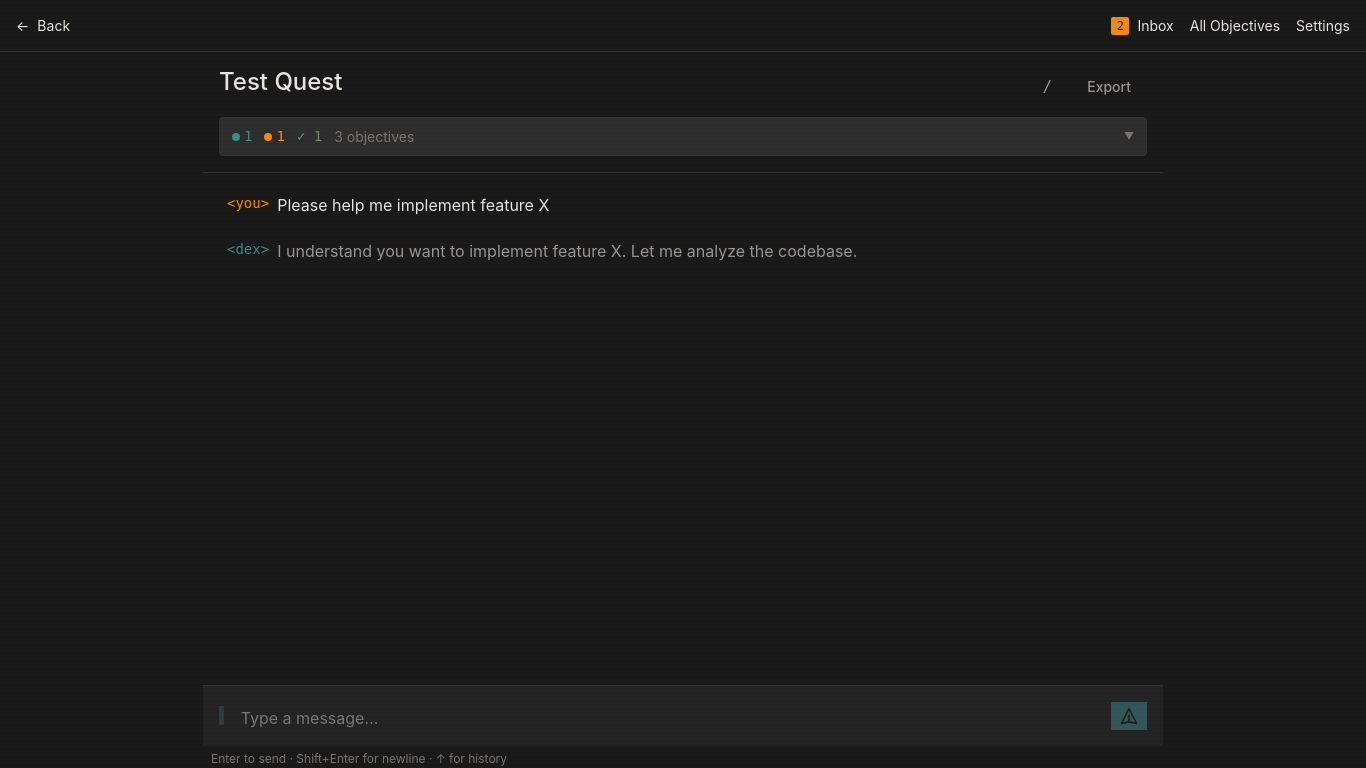
Scenario: QuestDetail › objectives list › expands to show objectives when clicked
The image size is (1366, 768).
// Click to expand
Click the text "3 objectives". click: point(374, 136)
box: [334,128,414,145]
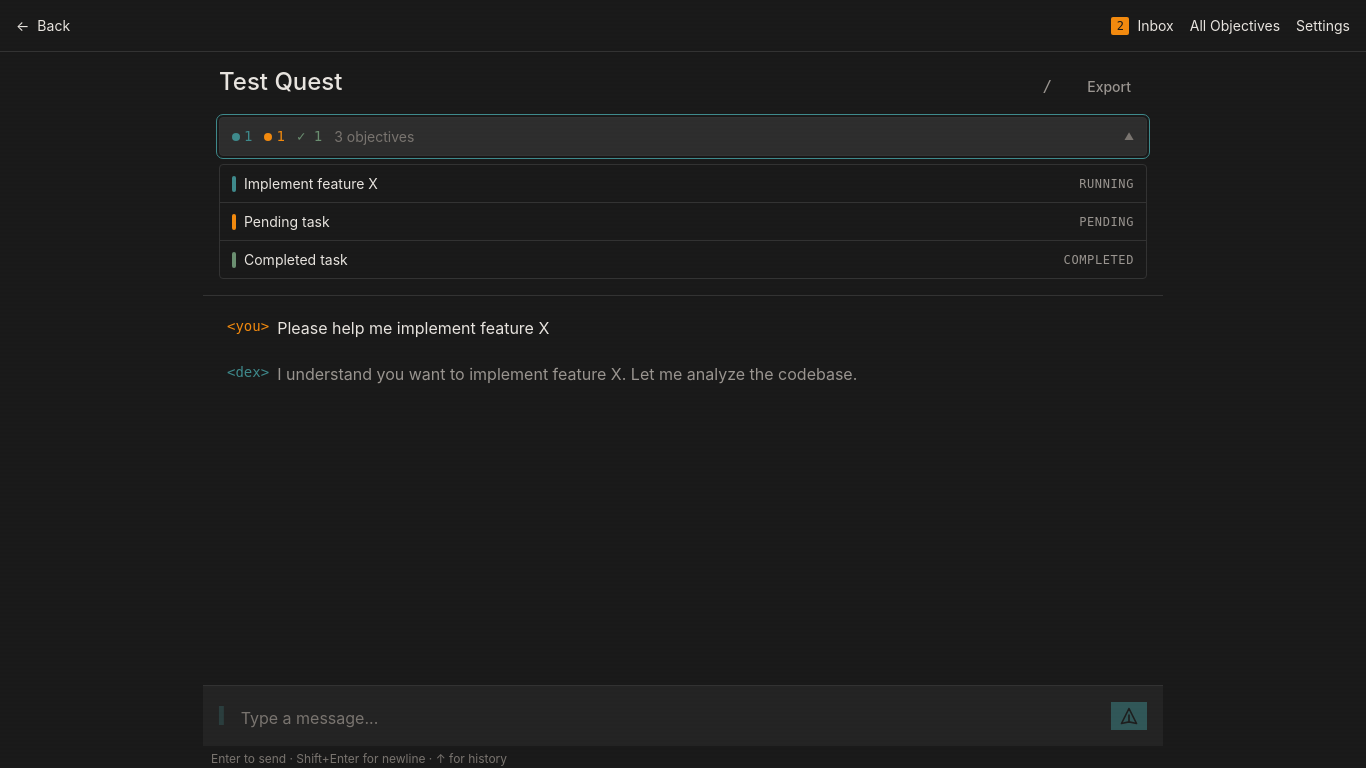
Now the text "Implement feature X" is shown, box [244,175,378,192]
Now the text "Pending task" is shown, box [244,213,330,230]
